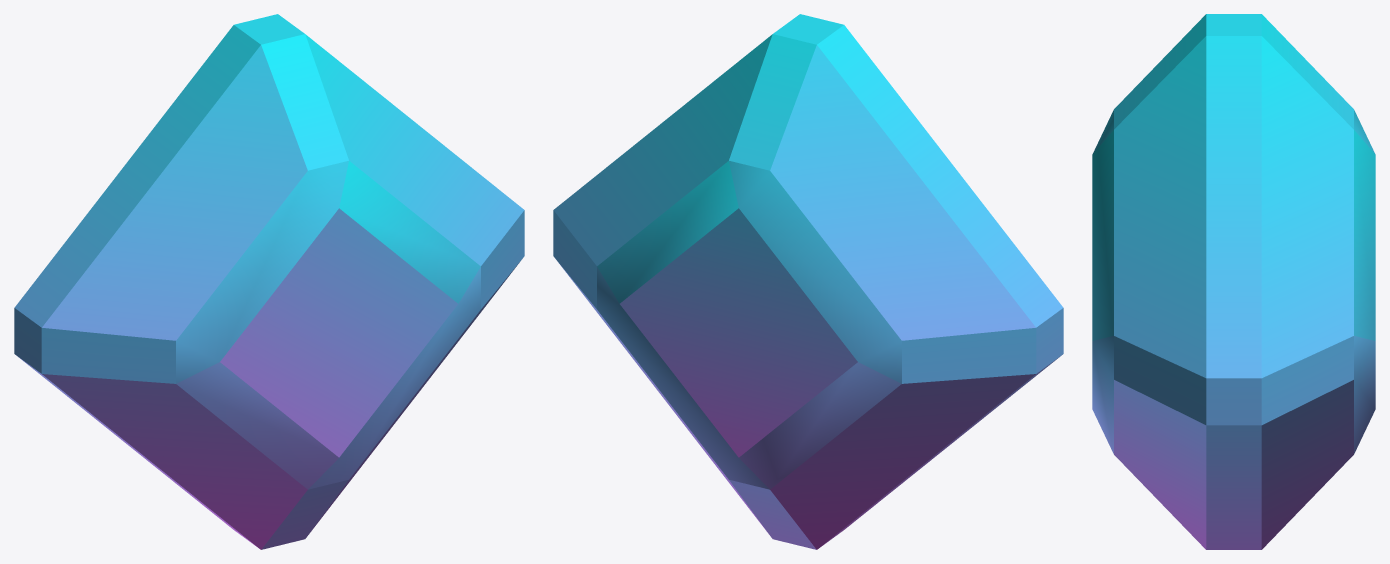
The model's file is gem-medium.glb.
3 views of the same model, side by side, from view 1: azimuth 30°, elevation 25°; view 2: azimuth 150°, elevation 25°; view 3: azimuth 270°, elevation 25° (orthographic).
Parts seen in each view (by area): view 1: Gem_Medium; view 2: Gem_Medium; view 3: Gem_Medium.
Boxes of the visible parts, left/top/right/bottom form: Gem_Medium: left=14, top=14, right=524, bottom=549; Gem_Medium: left=553, top=14, right=1063, bottom=549; Gem_Medium: left=1092, top=14, right=1375, bottom=549.
Size of the model in its own units: 0.45 by 0.45 by 0.225.
1 material, 1 textured.
